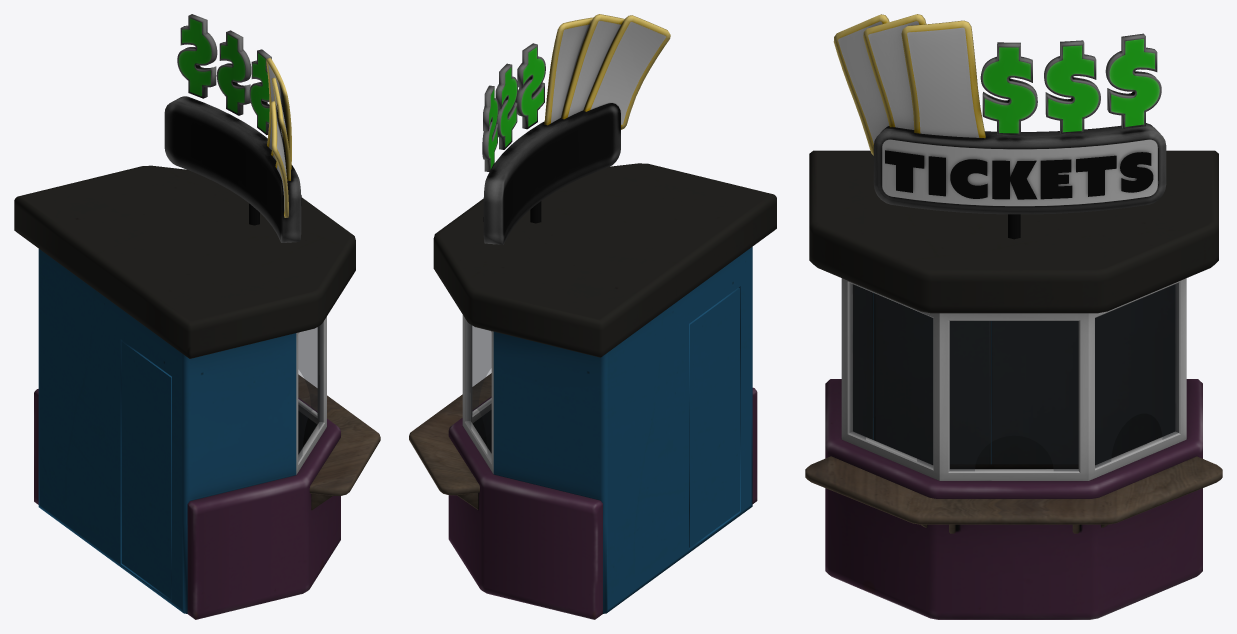
File: ticket_booth.glb
The picture shows the model from 3 angles, left to right: view 1: azimuth 30°, elevation 25°; view 2: azimuth 150°, elevation 25°; view 3: azimuth 270°, elevation 25°; orthographic projection. The views are drawn at different scales.
Visible parts, largest first — view 1: booth_1; view 2: booth_1; view 3: booth_1.
Part boxes in pixels (x1,y1,x2,y2): booth_1: [14, 14, 380, 619]; booth_1: [409, 14, 776, 619]; booth_1: [805, 14, 1222, 619].
Bounding box in the file's own units: 2.27 × 4.44 × 2.96.
2 materials, 2 textured.
